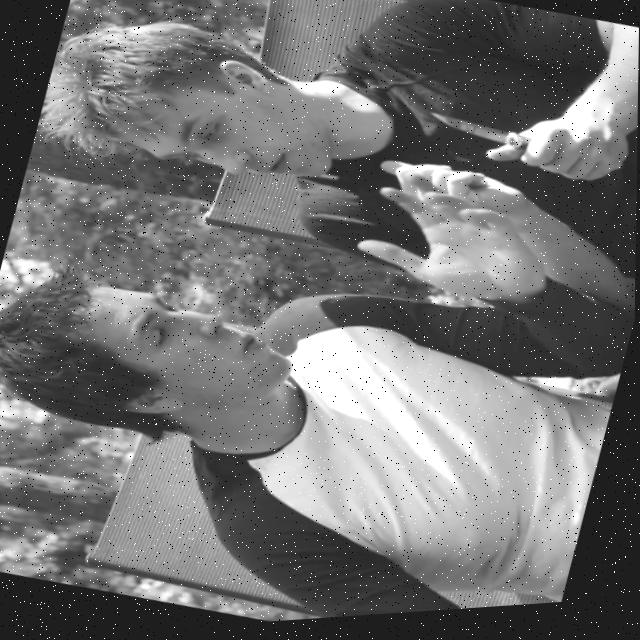knife: (412, 102, 528, 177)
